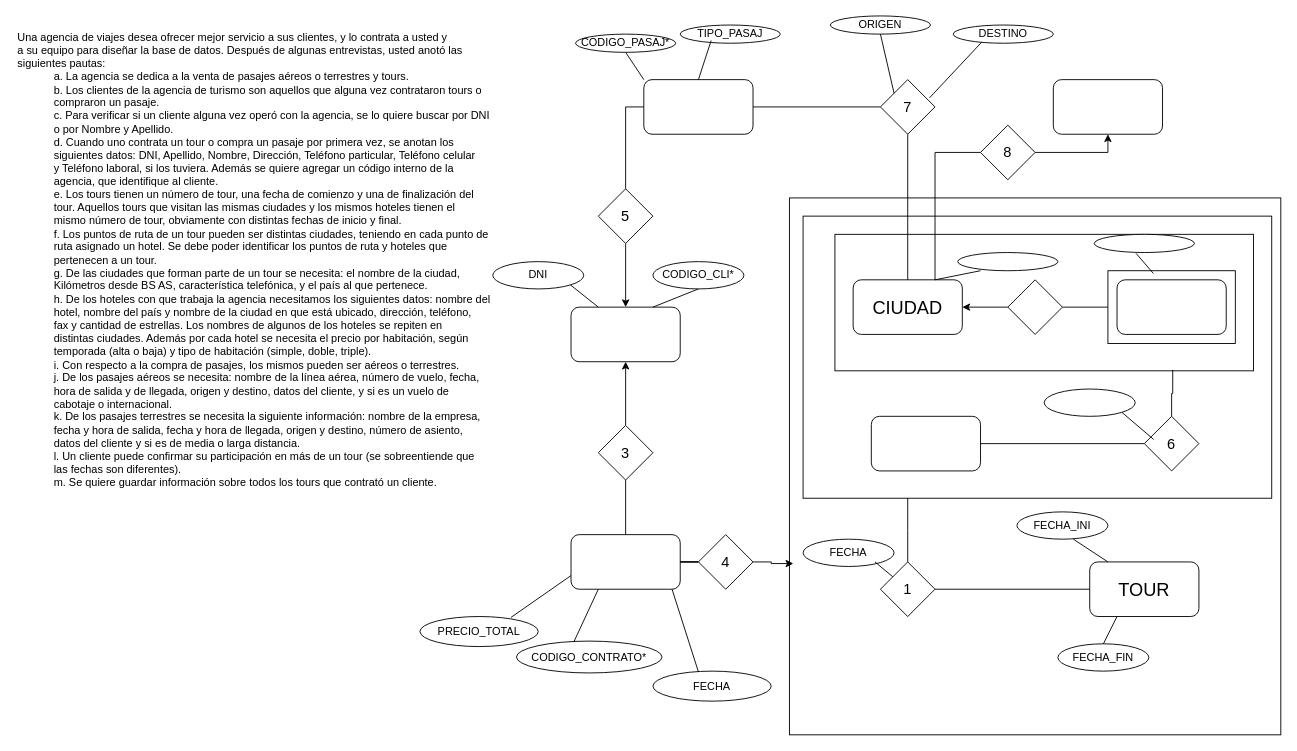
Image size: 1297x751. Some labels were removed from this diagram. Here are the shapes that lost their labels. From the top down, the box of each, then its label:
(643, 79, 753, 134): PASAJE
(1052, 79, 1163, 134): PAIS
(957, 252, 1058, 271): CODIGO_CIU*
(1093, 233, 1194, 253): NOMBRE*
(1007, 279, 1062, 334): BIT
(1116, 279, 1226, 334): HOTEL
(570, 306, 680, 362): CLIENTE
(1043, 388, 1135, 416): PRECIO
(870, 415, 981, 471): HABITACION
(570, 534, 680, 589): CONTRATO
